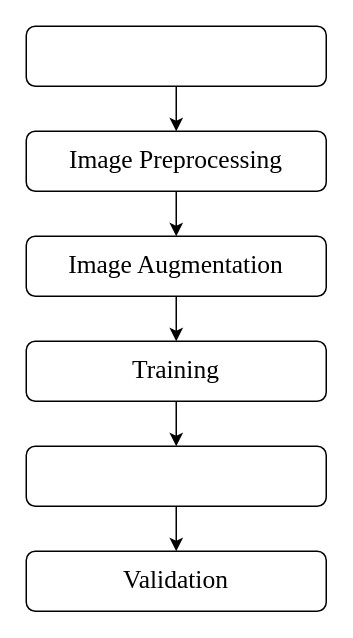
Image size: 353x638. Some labels were removed from this diagram. The box of each missing label's shape, as (x1, y1, x2, y2) in pixels:
Dataset: (25, 25, 326, 86)
Testing: (25, 445, 326, 506)
